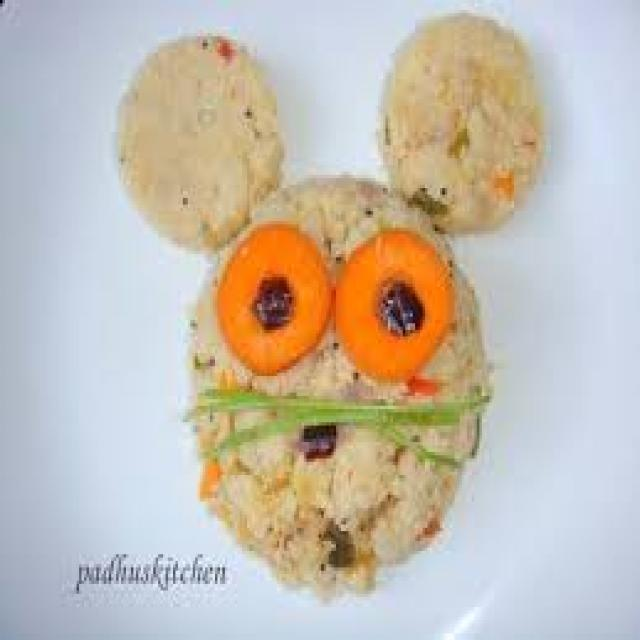MEDU VADA: (334, 228, 445, 376), (220, 218, 326, 369)
